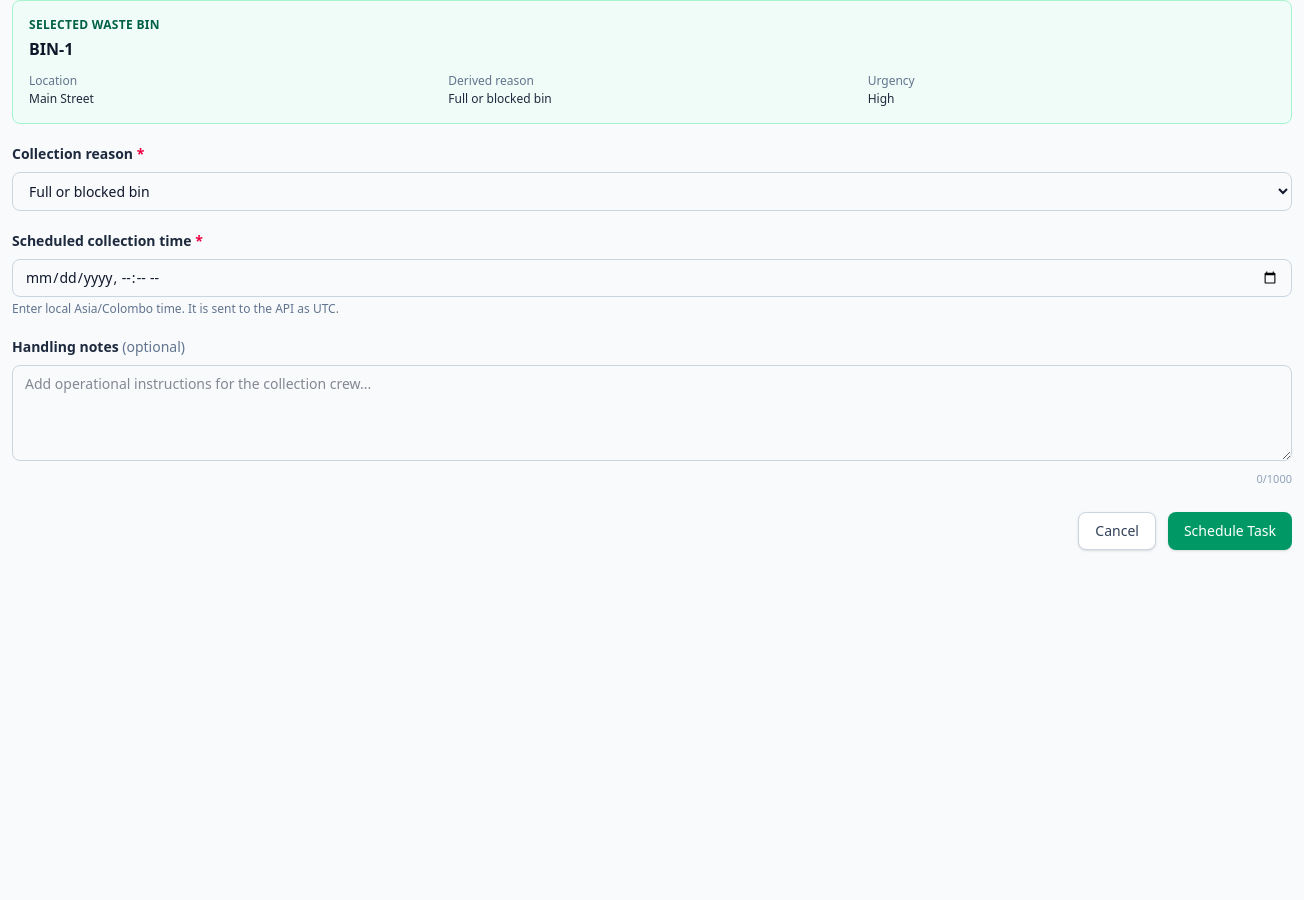
Scenario: ManualCollectionTaskForm › requires an OfficerDiscretion justification and preserves values when invalid
Select "Officer discretion" in the dropdown labelled "Collection reason *": (652, 192) [12,172,1292,211]
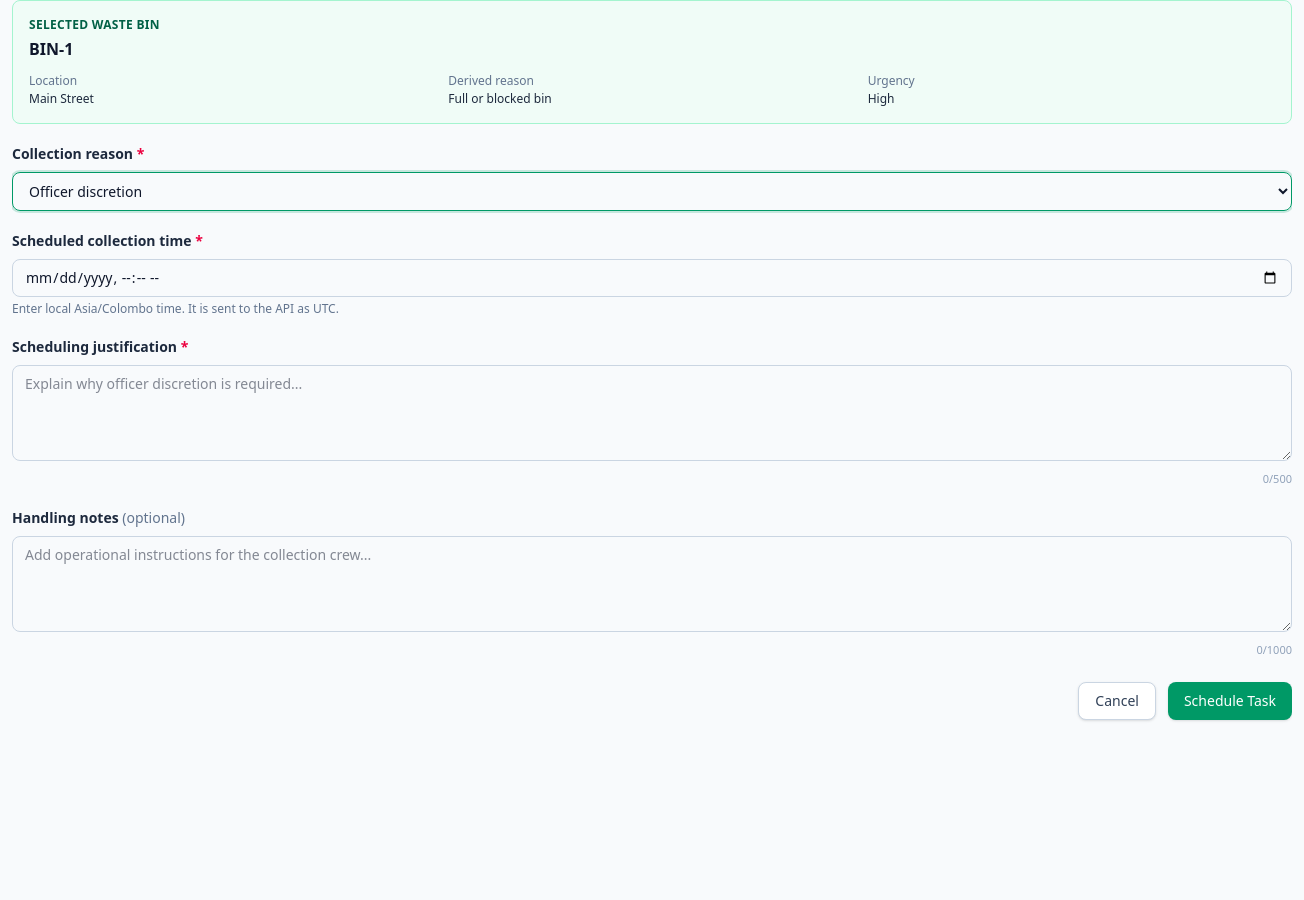
In the field labelled "Scheduled collection time *": (652, 278) [12,259,1292,297], type "2099-01-01T10:00"
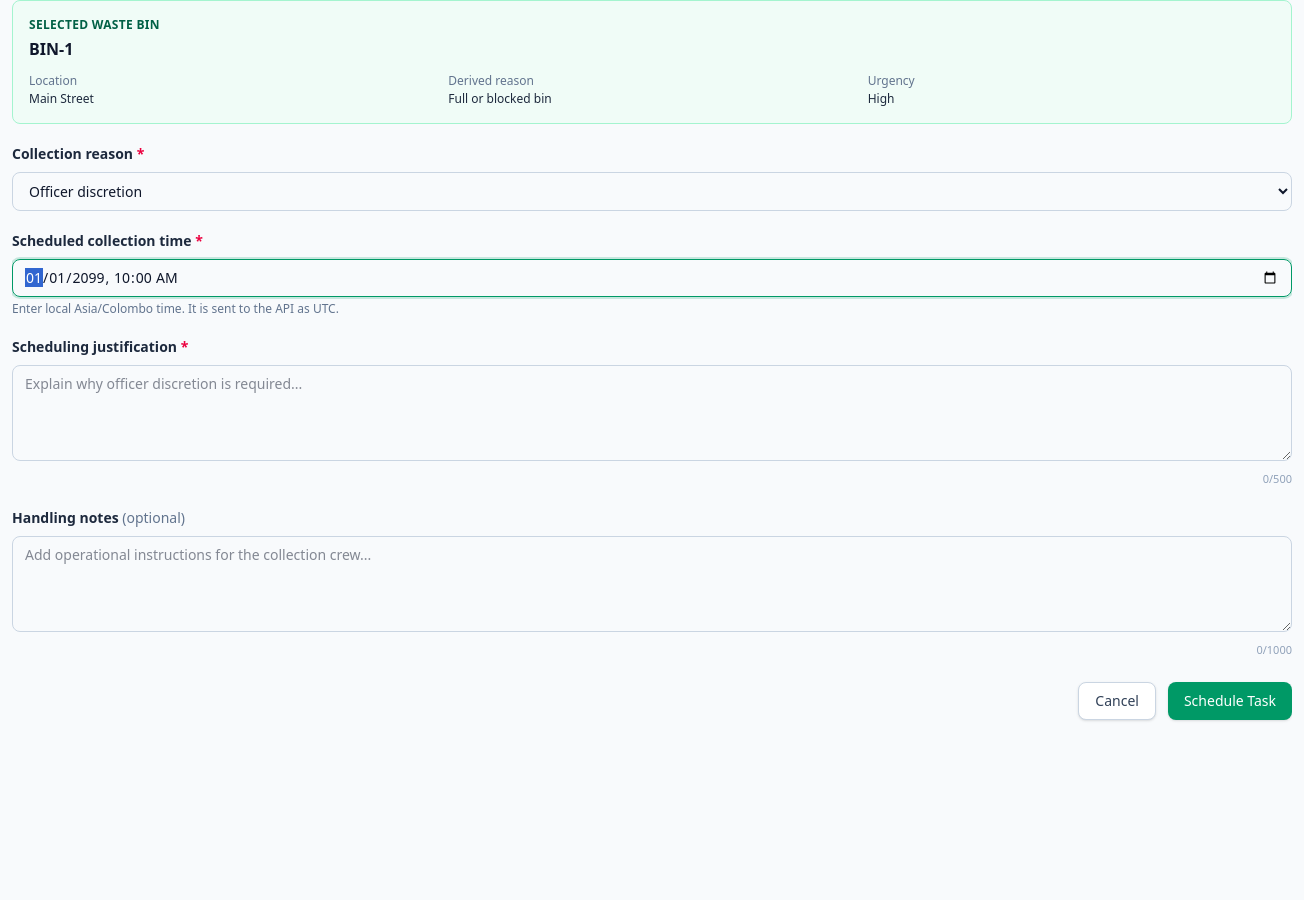
Click the button "Schedule Task": (1230, 701) [1168,682,1292,720]
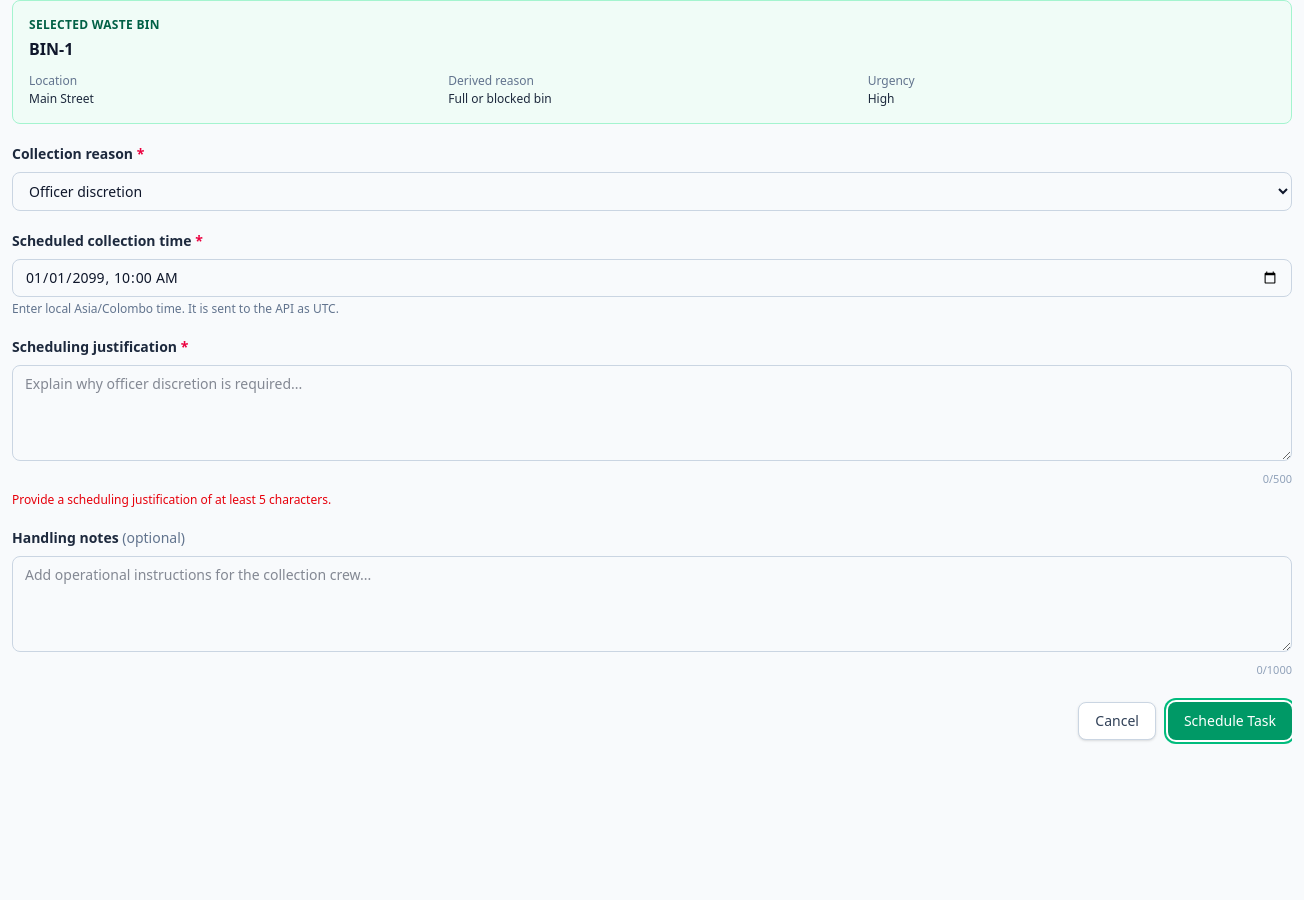
Now the text "Provide a scheduling justification of at least 5 characters." is shown, box [12,490,331,508]
